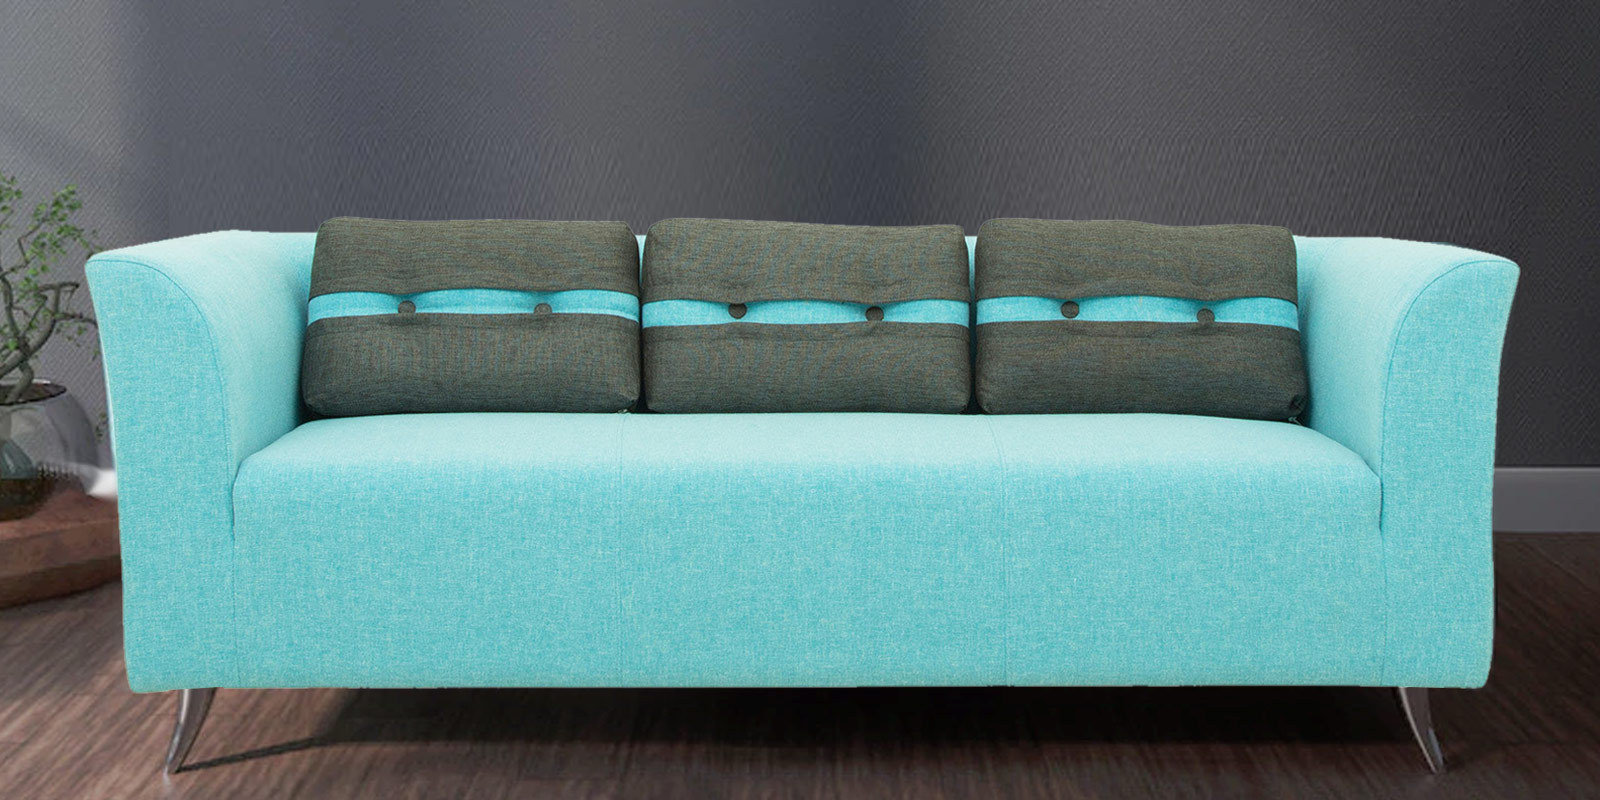Iowa Three Seater Sofa in Celeste Blue Colour by Furnitech: (71, 208, 1550, 777)
